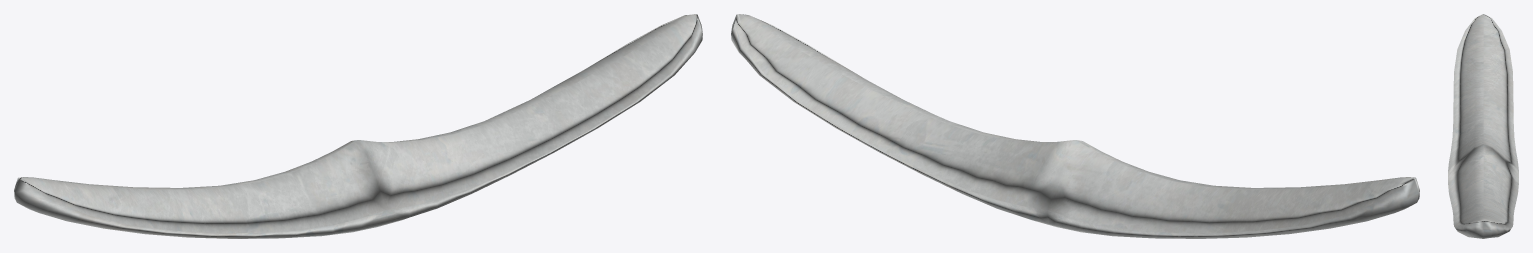
File: Guard_3.fbx
3 renders of one model, left to right at view 1: azimuth 30°, elevation 25°; view 2: azimuth 150°, elevation 25°; view 3: azimuth 270°, elevation 25°, orthographic. The views are drawn at different scales.
Visible parts, largest first — view 1: Cube.002; view 2: Cube.002; view 3: Cube.002.
Boxes of the visible parts, x1,y1,x2,y2 form: Cube.002: [14, 14, 702, 238]; Cube.002: [731, 14, 1419, 238]; Cube.002: [1448, 14, 1518, 238].
Bounding box in the file's own units: 13.93 × 2.34 × 1.98.
